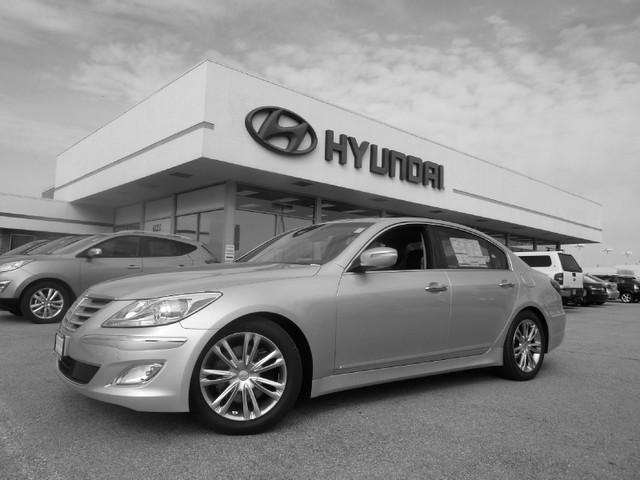car: (54, 218, 566, 438)
